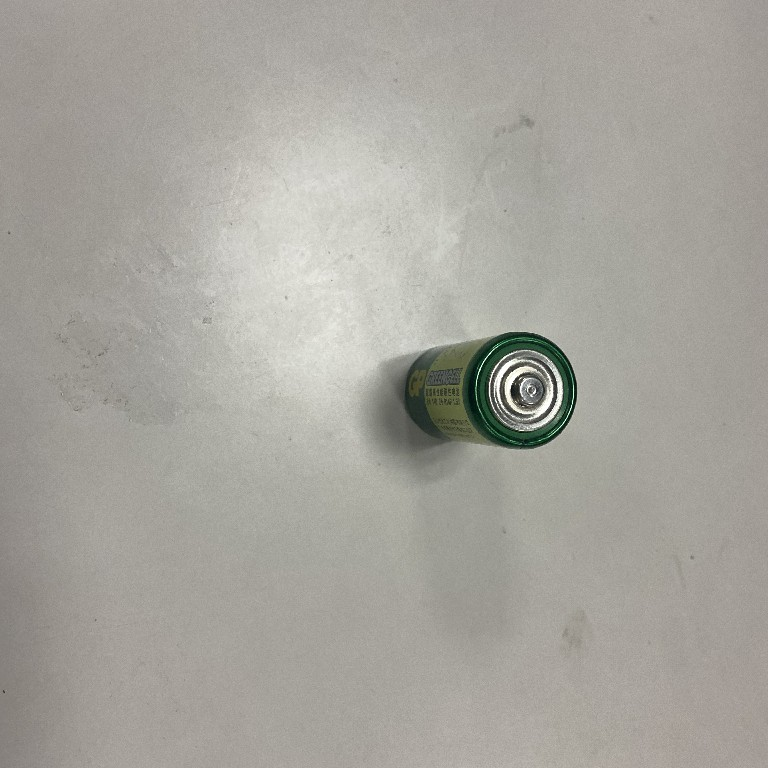charge: (401, 329, 581, 454)
